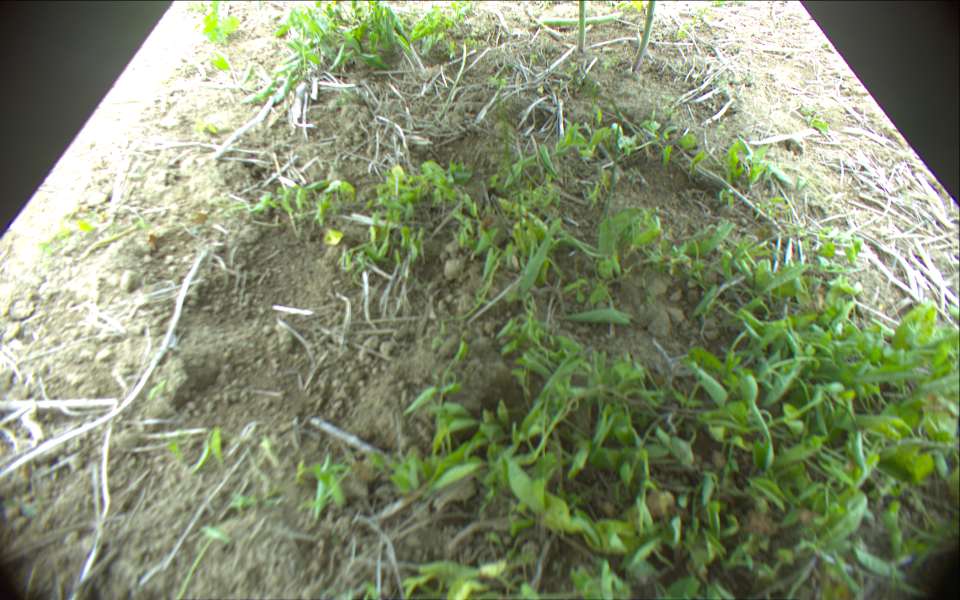aspa: (631, 1, 654, 73), (539, 10, 626, 24), (578, 1, 584, 51)
